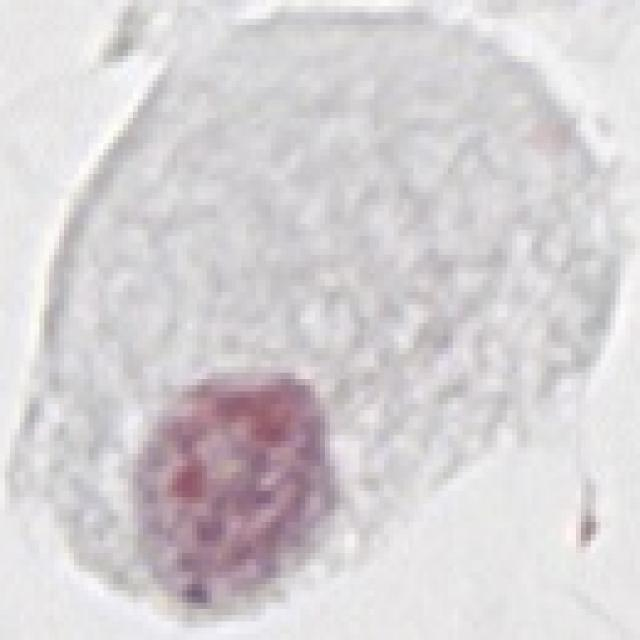nucleus: (123, 369, 344, 605)
